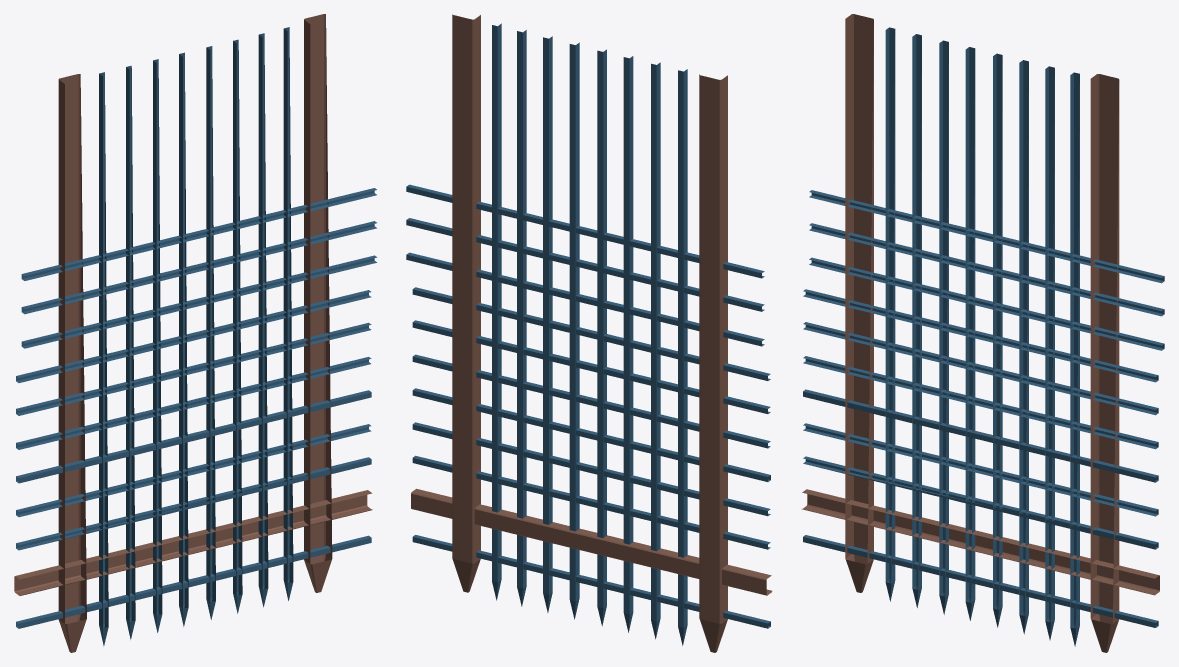
File: Castle_door.fbx
The picture shows the model from 3 angles, left to right: view 1: azimuth 30°, elevation 25°; view 2: azimuth 150°, elevation 25°; view 3: azimuth 330°, elevation 25°; orthographic projection.
Parts seen in each view (by area): view 1: citadel_Door; view 2: citadel_Door; view 3: citadel_Door.
Part boxes in pixels (x1,y1,x2,y2): citadel_Door: [14, 14, 377, 652]; citadel_Door: [406, 14, 772, 652]; citadel_Door: [802, 14, 1164, 652].
Bounding box in the file's own units: 872 × 1336 × 32.58.
